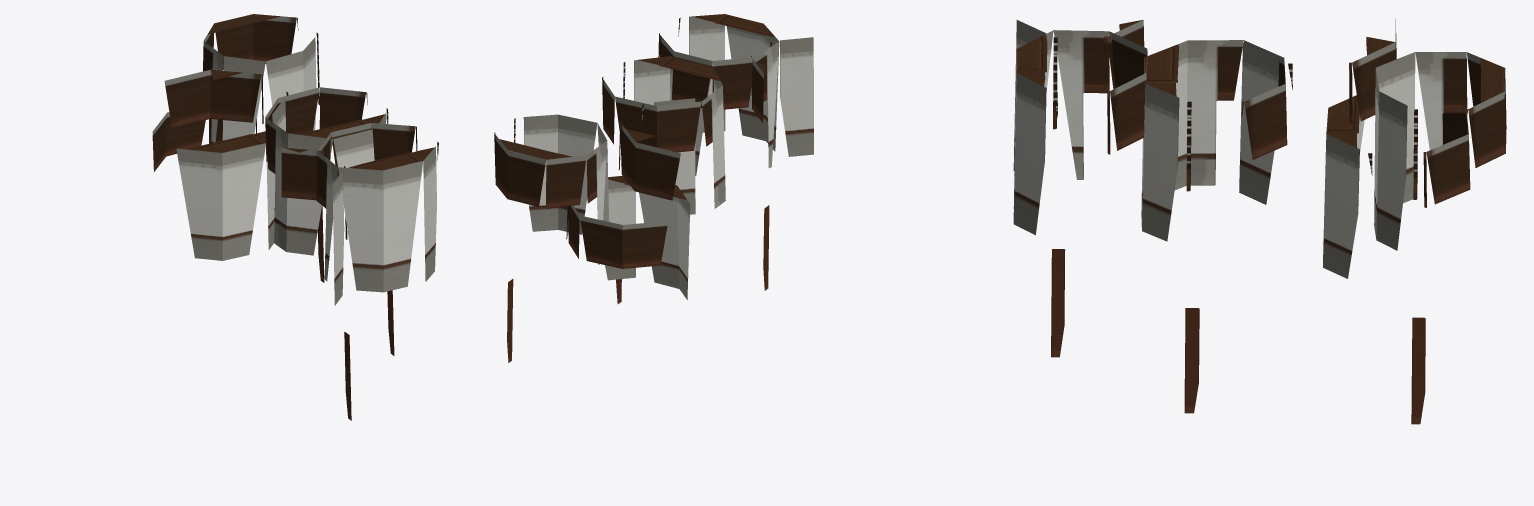
3 renders of one model, left to right at view 1: azimuth 30°, elevation 25°; view 2: azimuth 150°, elevation 25°; view 3: azimuth 270°, elevation 25°, orthographic. The views are drawn at different scales.
Bounding box in the file's own units: 1.53 × 1.8 × 2.26.
